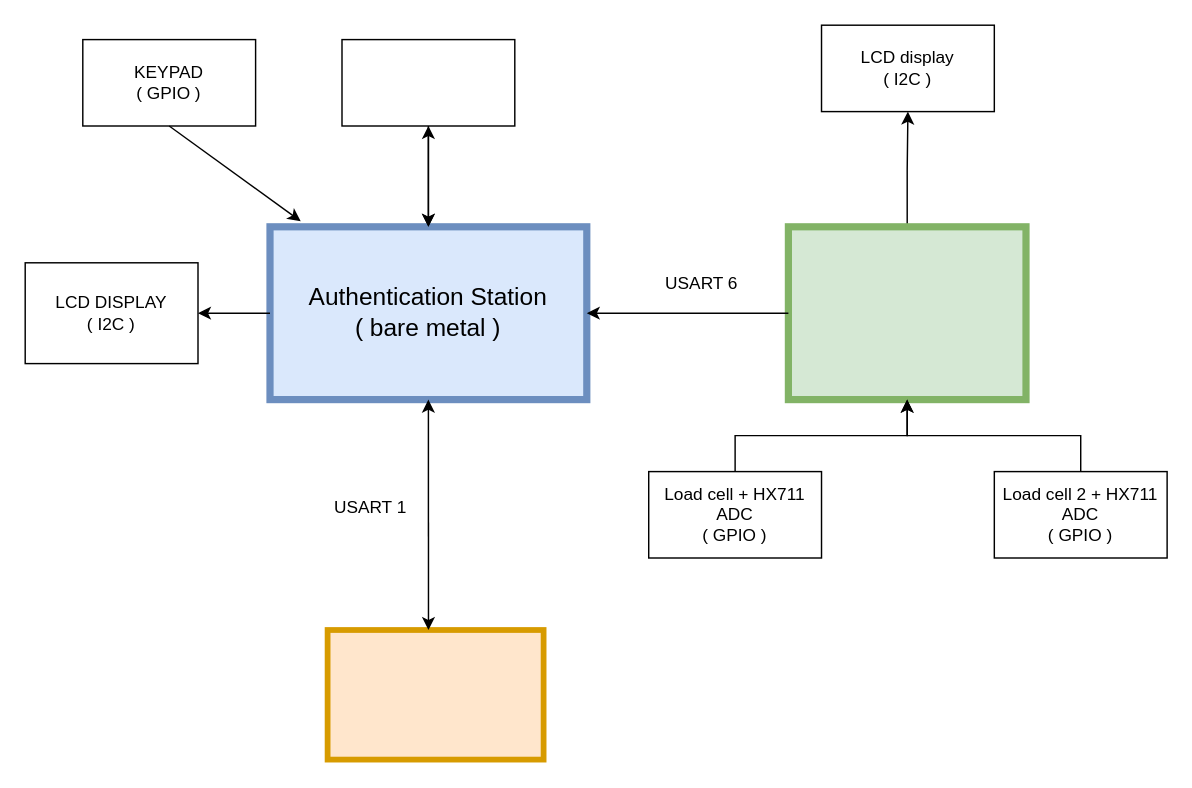
The diagram is 1192 pixels wide and 788 high, and some of its shapes have lost their labels. Each missing label, with the box of its shape:
ESP8226 WiFi Module: (324, 626, 546, 762)
RFID Reader ( SPI ): (341, 38, 515, 126)
Weighing Station ( HAL ): (784, 222, 1029, 402)
